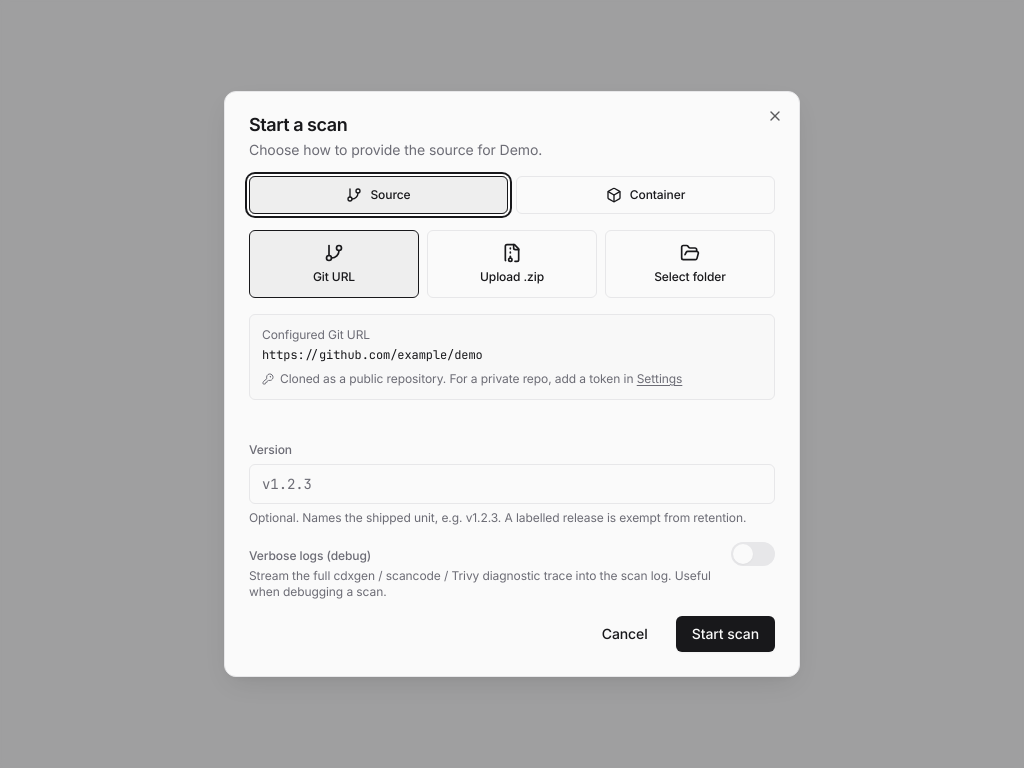
SourceSelectDialog › switches to the container kind and reveals the image_ref input
The image size is (1024, 768).
Click the radio button with test id "scan-kind-container" at x=646, y=195, box [516,176,775,214]
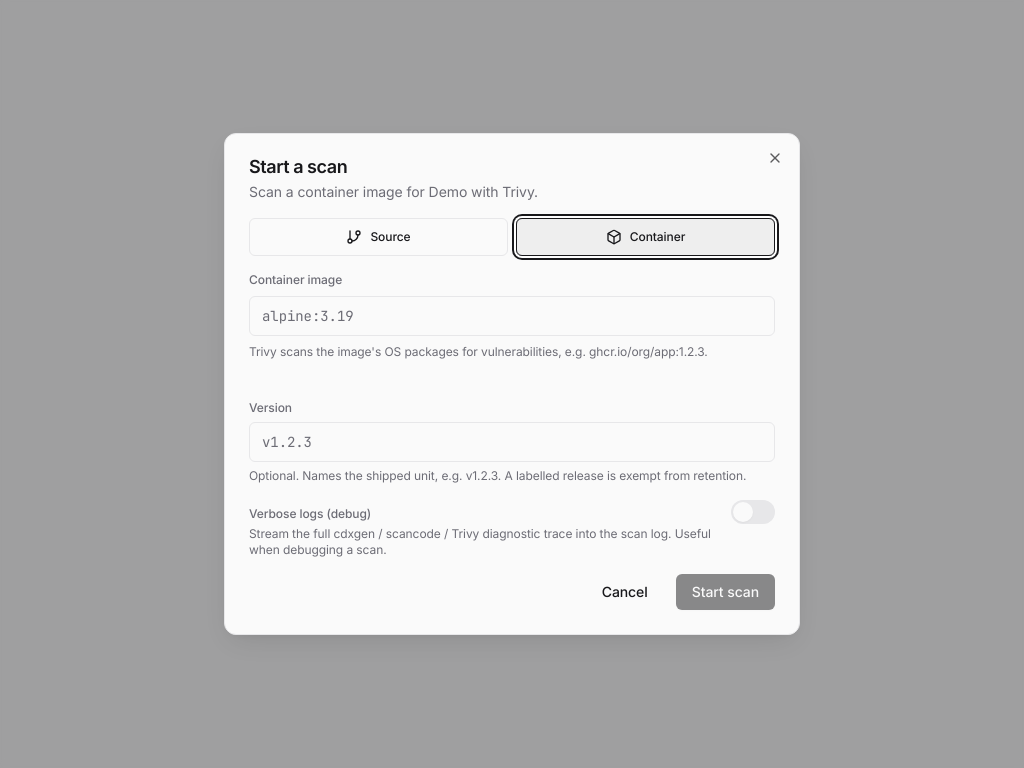
Check: the element with test id "source-container-panel" is shown, box [249,272,775,384]
Check: the field with test id "scan-image-ref-input" is shown, box [249,296,775,336]
Check: the element with test id "source-method-group" is gone
